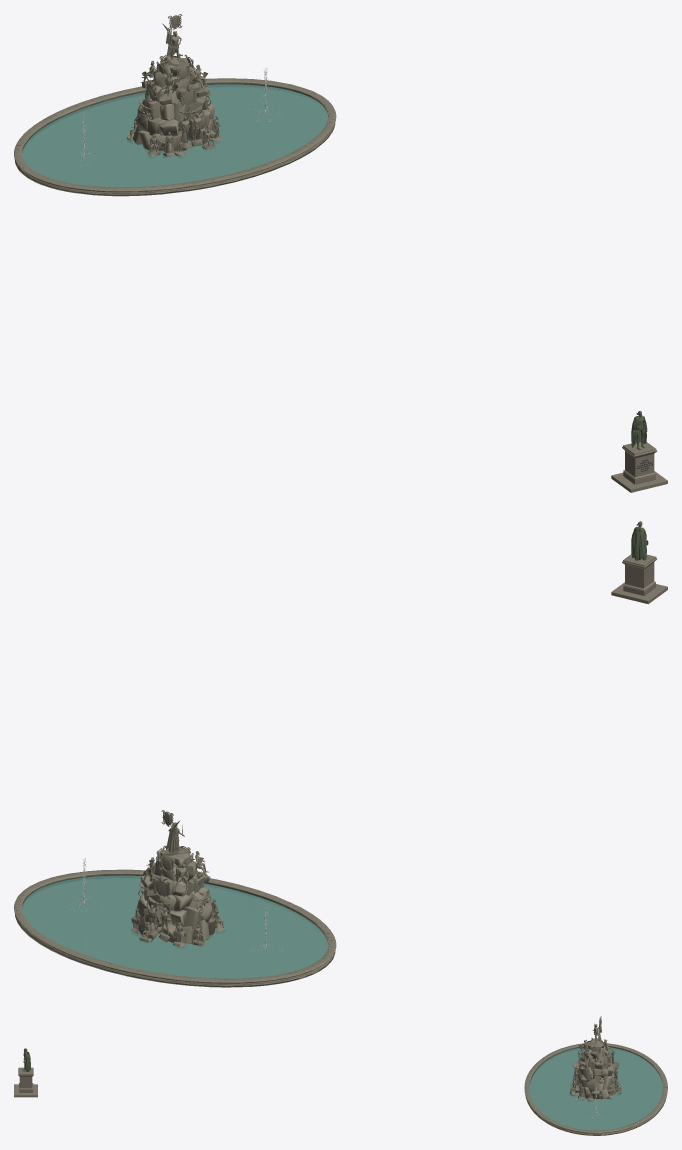
File: skulpturen.glb
The picture shows the model from 3 angles, top to bottom: view 1: azimuth 30°, elevation 25°; view 2: azimuth 150°, elevation 25°; view 3: azimuth 270°, elevation 25°; orthographic projection. The views are drawn at different scales.
Parts seen in each view (by area): view 1: Hugenottenbrunnen_ERL4_Fountain_water, Hugenottenbrunnen_ERL4_Brunnen_weathered_sandstone, Hugenottenbrunnen_ERL5_Brunnen_carved_stone, Friedrich_Denkmal_ERL4_Monument_granite, Hugenottenbrunnen_ERL5_Rock_layer_2, Hugenottenbrunnen_ERL5_Rock_layer_0, Hugenottenbrunnen_ERL5_Rock_layer_3, Hugenottenbrunnen_ERL5_Rock_layer_4, Hugenottenbrunnen_ERL5_Rock_layer_1; view 2: Hugenottenbrunnen_ERL4_Fountain_water, Hugenottenbrunnen_ERL4_Brunnen_weathered_sandstone, Hugenottenbrunnen_ERL5_Brunnen_carved_stone, Friedrich_Denkmal_ERL4_Monument_granite, Hugenottenbrunnen_ERL5_Rock_layer_2, Hugenottenbrunnen_ERL5_Rock_layer_4, Hugenottenbrunnen_ERL5_Rock_layer_1, Hugenottenbrunnen_ERL5_Rock_layer_3; view 3: Hugenottenbrunnen_ERL4_Fountain_water, Hugenottenbrunnen_ERL4_Brunnen_weathered_sandstone, Hugenottenbrunnen_ERL5_Brunnen_carved_stone, Hugenottenbrunnen_ERL5_Rock_layer_2, Friedrich_Denkmal_ERL4_Monument_granite, Hugenottenbrunnen_ERL5_Rock_layer_3, Hugenottenbrunnen_ERL5_Rock_layer_4, Hugenottenbrunnen_ERL5_Rock_layer_0, Hugenottenbrunnen_ERL5_Rock_layer_1.
Boxes of the visible parts, left/top/right/bottom form: Hugenottenbrunnen_ERL4_Fountain_water: left=22, top=84, right=328, bottom=187; Hugenottenbrunnen_ERL4_Brunnen_weathered_sandstone: left=22, top=87, right=327, bottom=186; Hugenottenbrunnen_ERL5_Brunnen_carved_stone: left=14, top=14, right=336, bottom=196; Friedrich_Denkmal_ERL4_Monument_granite: left=611, top=442, right=667, bottom=492; Hugenottenbrunnen_ERL5_Rock_layer_2: left=127, top=60, right=221, bottom=158; Hugenottenbrunnen_ERL5_Rock_layer_0: left=136, top=60, right=205, bottom=151; Hugenottenbrunnen_ERL5_Rock_layer_3: left=132, top=80, right=213, bottom=144; Hugenottenbrunnen_ERL5_Rock_layer_4: left=142, top=58, right=215, bottom=126; Hugenottenbrunnen_ERL5_Rock_layer_1: left=138, top=55, right=189, bottom=150; Hugenottenbrunnen_ERL4_Fountain_water: left=22, top=875, right=328, bottom=978; Hugenottenbrunnen_ERL4_Brunnen_weathered_sandstone: left=23, top=879, right=327, bottom=977; Hugenottenbrunnen_ERL5_Brunnen_carved_stone: left=14, top=810, right=336, bottom=987; Friedrich_Denkmal_ERL4_Monument_granite: left=611, top=554, right=667, bottom=604; Hugenottenbrunnen_ERL5_Rock_layer_2: left=131, top=852, right=225, bottom=948; Hugenottenbrunnen_ERL5_Rock_layer_4: left=135, top=849, right=205, bottom=942; Hugenottenbrunnen_ERL5_Rock_layer_1: left=138, top=849, right=216, bottom=937; Hugenottenbrunnen_ERL5_Rock_layer_3: left=133, top=864, right=211, bottom=943; Hugenottenbrunnen_ERL4_Fountain_water: left=529, top=1047, right=662, bottom=1130; Hugenottenbrunnen_ERL4_Brunnen_weathered_sandstone: left=529, top=1049, right=662, bottom=1129; Hugenottenbrunnen_ERL5_Brunnen_carved_stone: left=524, top=1016, right=667, bottom=1135; Hugenottenbrunnen_ERL5_Rock_layer_2: left=569, top=1039, right=621, bottom=1101; Friedrich_Denkmal_ERL4_Monument_granite: left=14, top=1067, right=37, bottom=1097; Hugenottenbrunnen_ERL5_Rock_layer_3: left=577, top=1045, right=611, bottom=1099; Hugenottenbrunnen_ERL5_Rock_layer_4: left=580, top=1046, right=615, bottom=1092; Hugenottenbrunnen_ERL5_Rock_layer_0: left=577, top=1040, right=614, bottom=1084; Hugenottenbrunnen_ERL5_Rock_layer_1: left=587, top=1041, right=616, bottom=1094.
Size of the model in its own units: 29.13 by 11.43 by 89.47.
